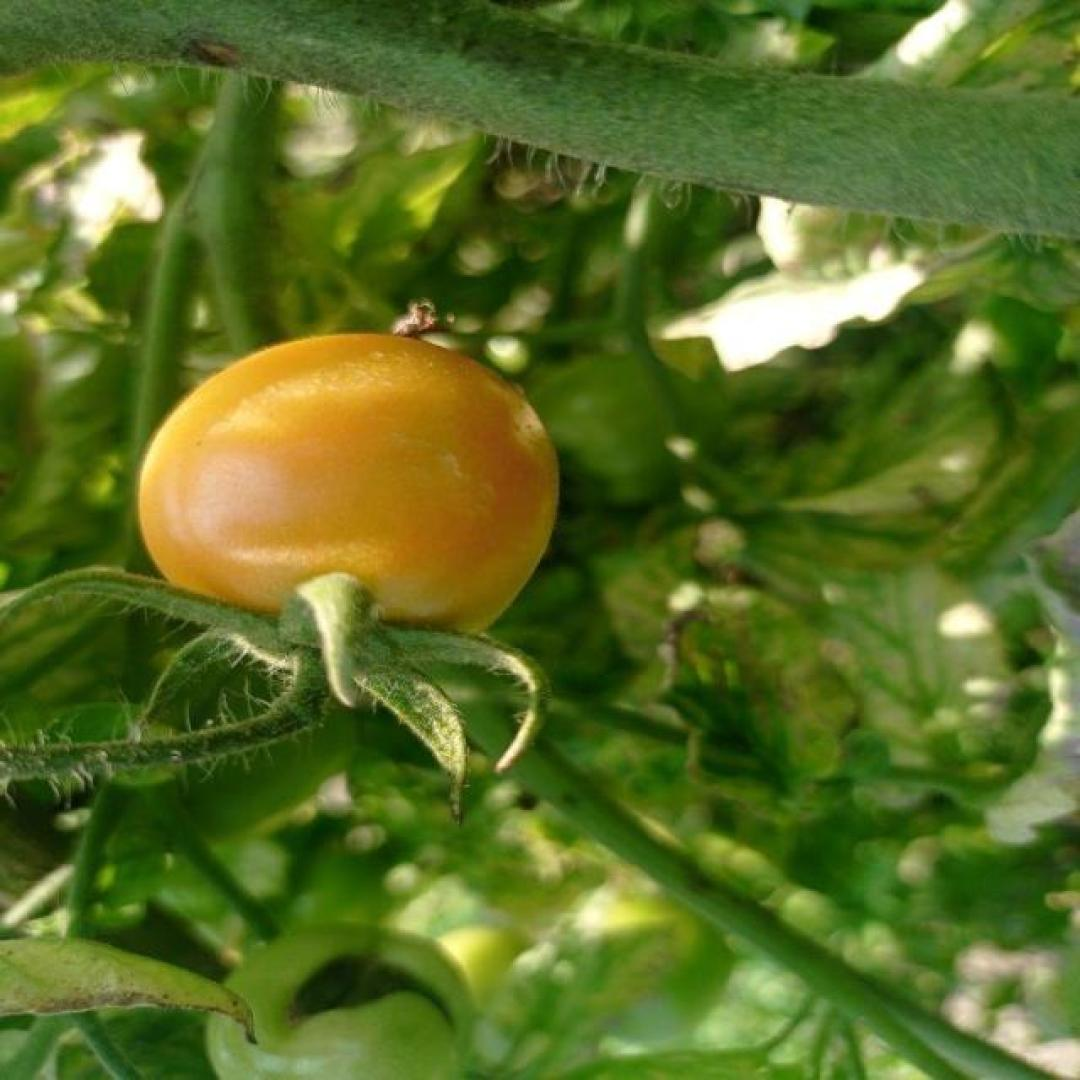setengah_matang: (137, 329, 567, 677)
